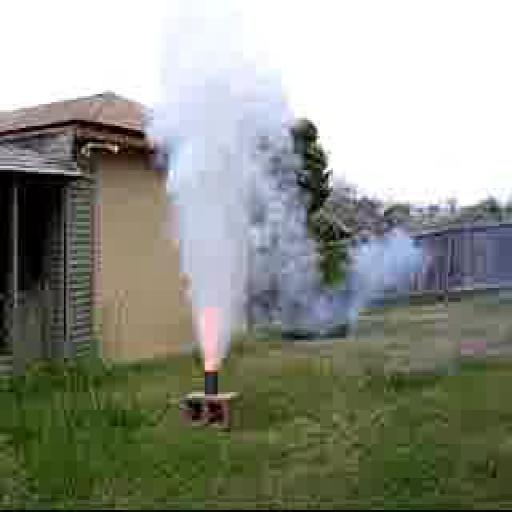smoke: (152, 57, 266, 346), (175, 86, 264, 351)
